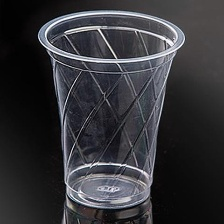glass: (36, 6, 188, 214)
